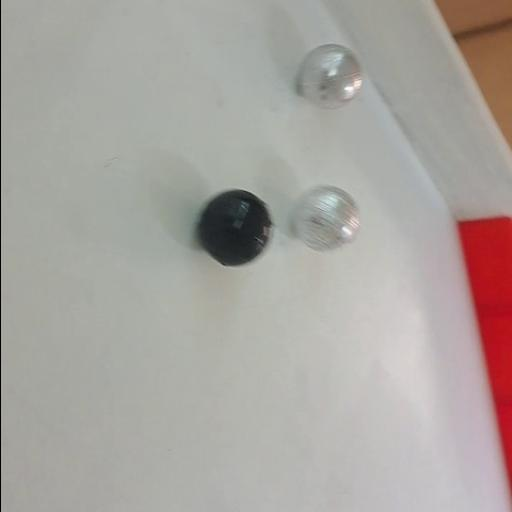alive: (295, 42, 363, 112), (292, 184, 360, 254)
dead: (196, 186, 276, 270)
